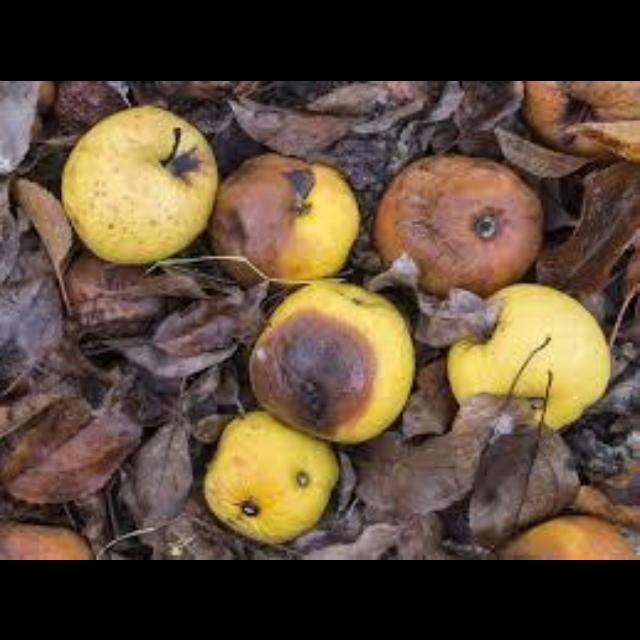apple: (250, 280, 413, 441), (64, 105, 217, 263), (373, 154, 541, 293), (447, 283, 610, 426), (210, 152, 358, 278), (203, 411, 336, 542)
pest: (238, 497, 263, 520), (292, 472, 309, 488)
rotten: (373, 154, 541, 293), (251, 313, 377, 432), (211, 155, 309, 270)
